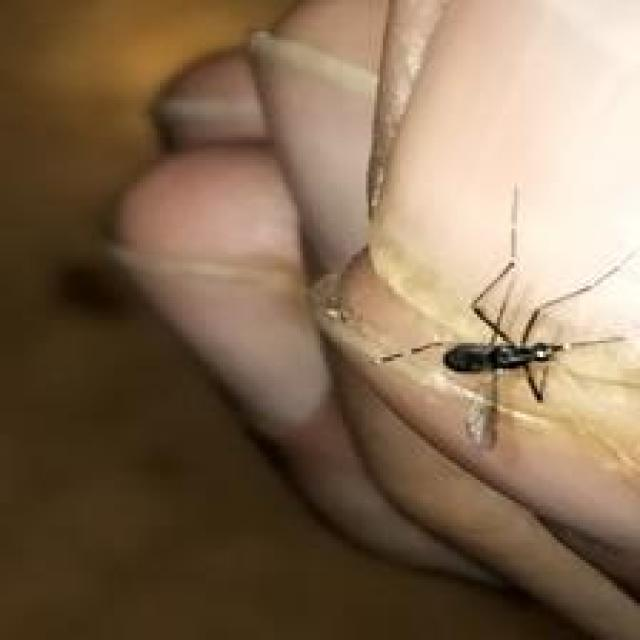Aedes albopictus: (365, 181, 640, 452)
